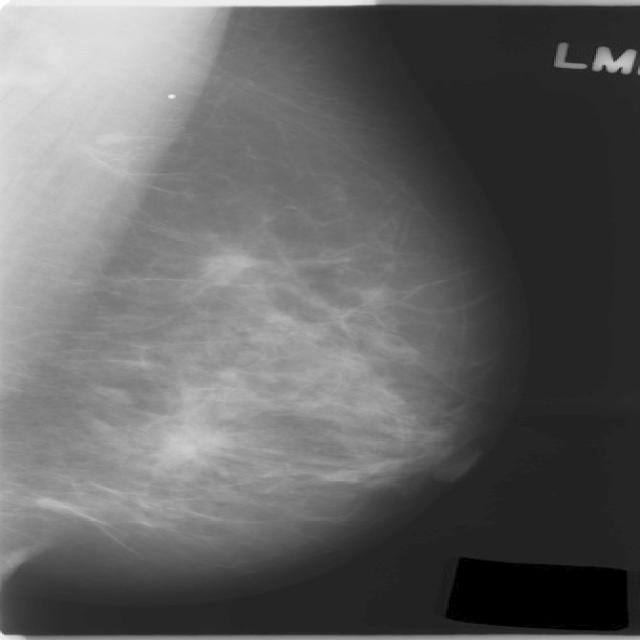tumour: (149, 412, 231, 471), (191, 243, 262, 289)
